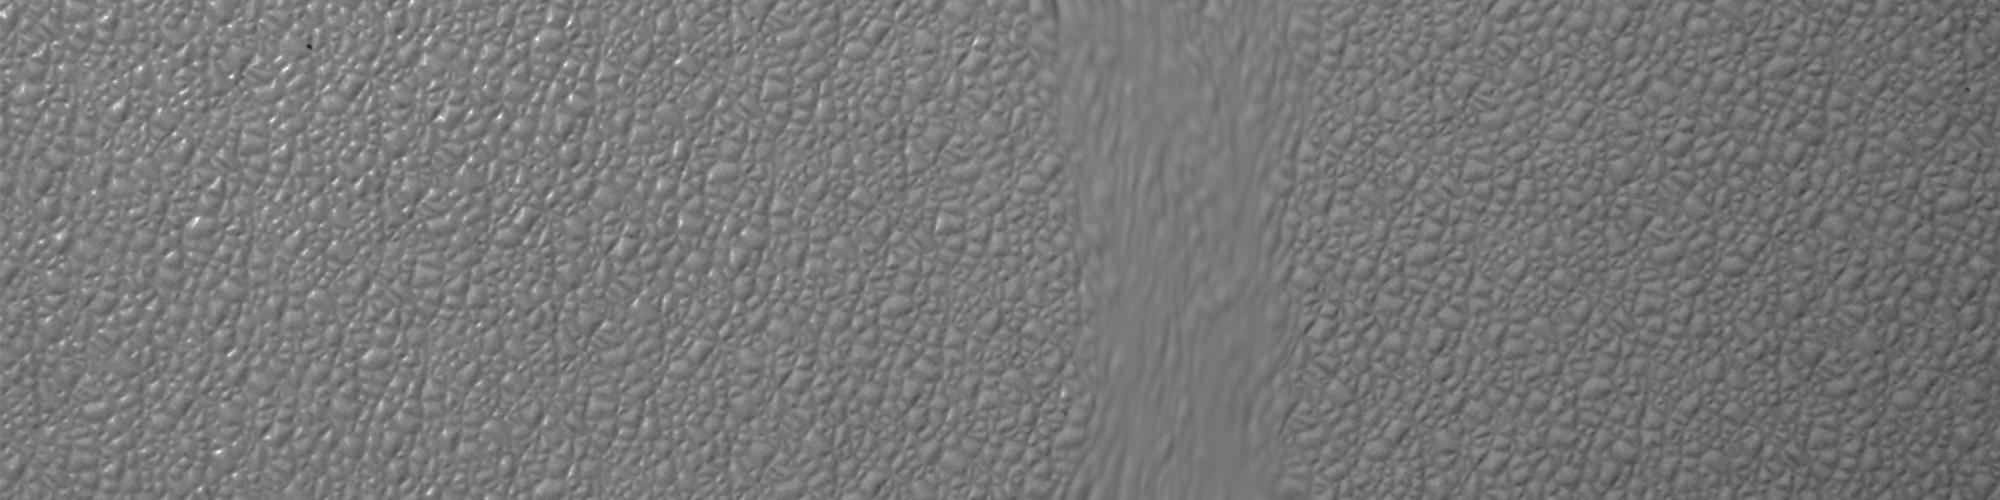Flow_Lines: (1004, 8, 1304, 496)
